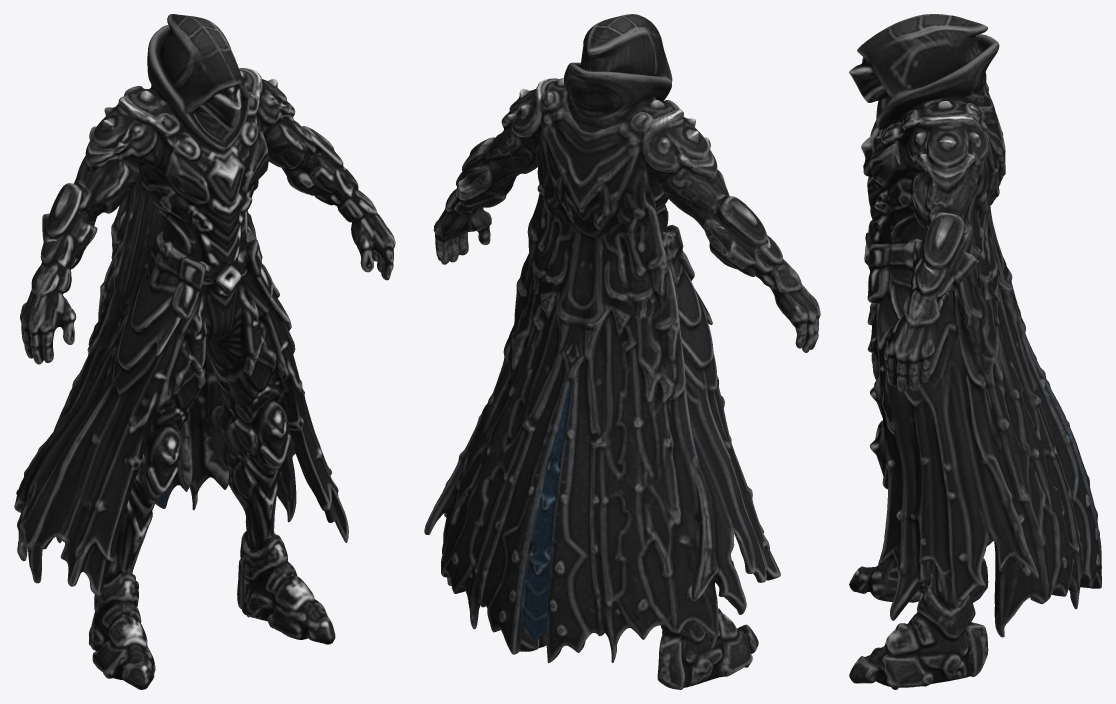
File: drakos_n4.glb
3 views of the same model, side by side, from view 1: azimuth 30°, elevation 25°; view 2: azimuth 150°, elevation 25°; view 3: azimuth 270°, elevation 25° (orthographic). The views are drawn at different scales.
Bounding box in the file's own units: 1.18 × 1.9 × 0.6996.
Materials: 1 (1 with a texture image).
